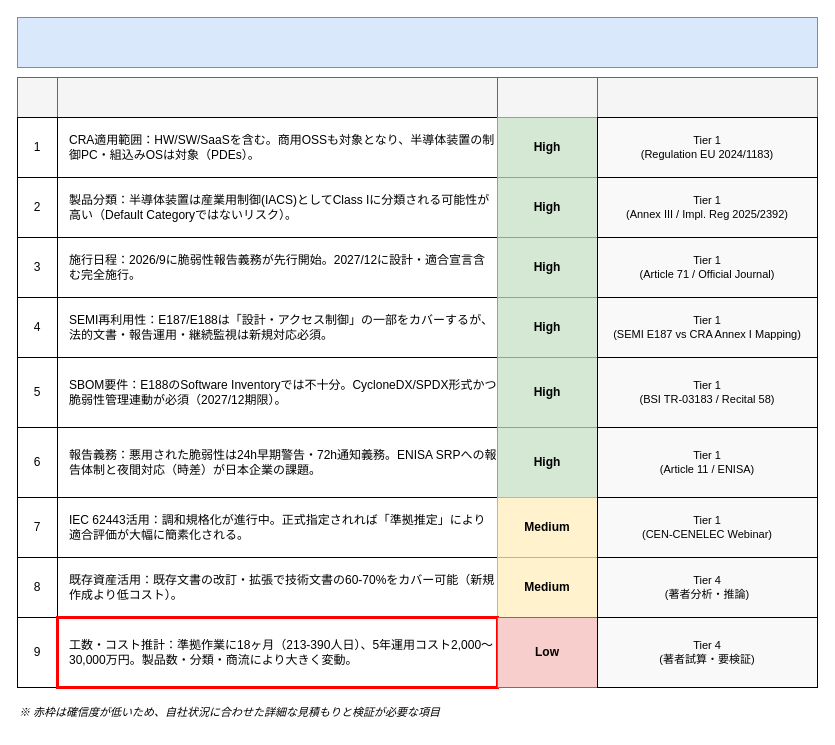
Some shapes in this 835 by 745 pixel diagram are drawn without their labels. Each missing label, with the centre of its shape:
"No." belongs at point 37,97.
"ソース信頼性" belongs at point 707,97.
"主張（Claim）要約" belongs at point 277,97.
"確信度" belongs at point 547,97.
"確信度ヒートマップ：EU CRA対策（SEMI規格準拠企業向け）" belongs at point 417,42.
